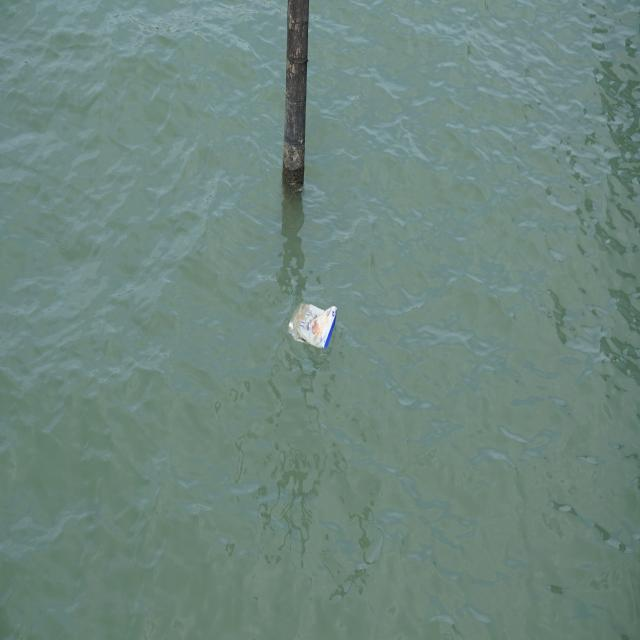Bungkus Makanan: (287, 298, 341, 359)
